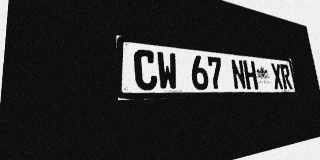6: (190, 55, 209, 90)
7: (206, 56, 225, 90)
C: (133, 49, 158, 90)
H: (243, 60, 258, 89)
N: (230, 59, 247, 90)
R: (280, 64, 293, 89)
W: (156, 51, 179, 90)
X: (270, 63, 284, 89)
